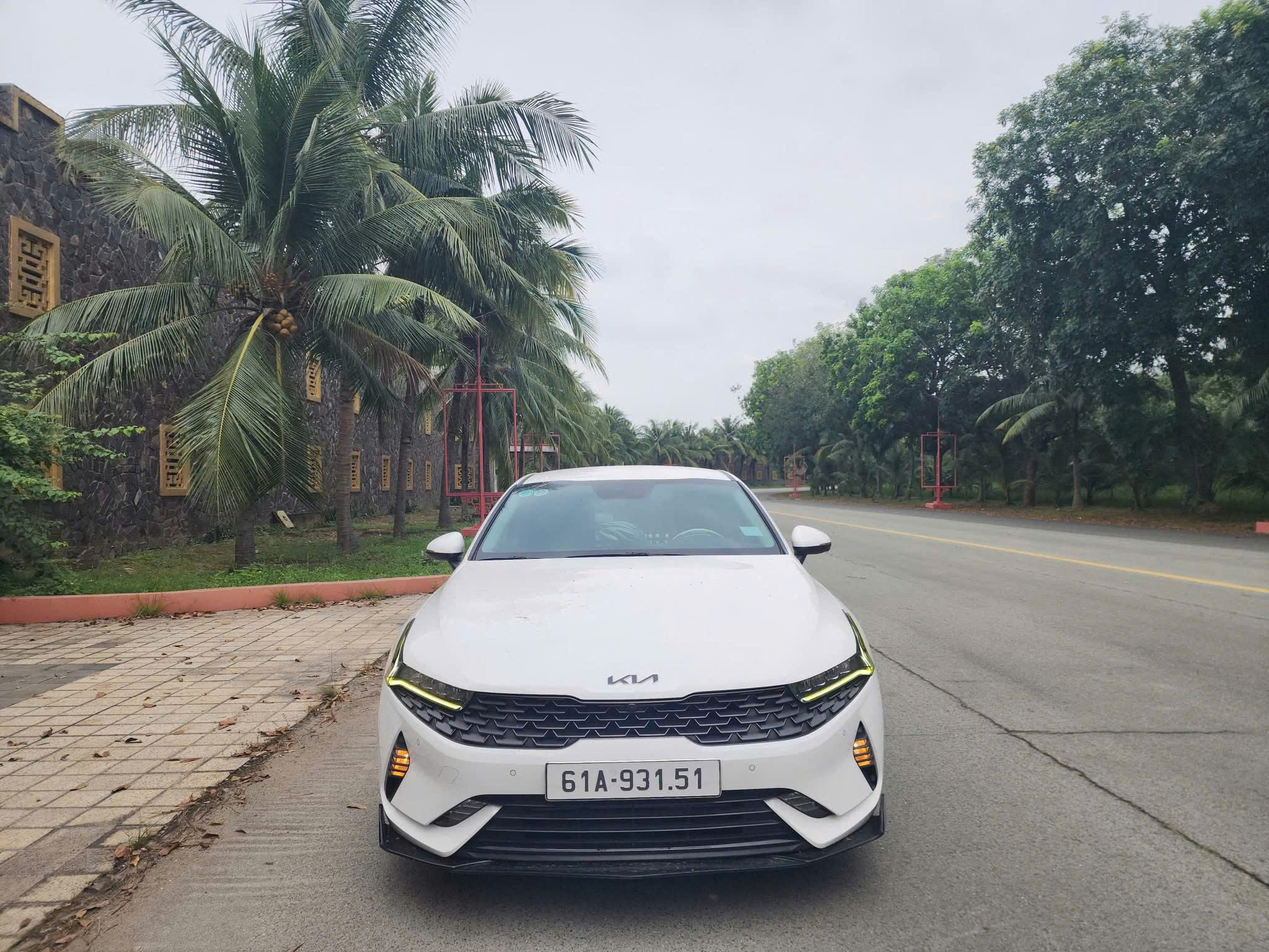Bien-so: (541, 754, 720, 801)
